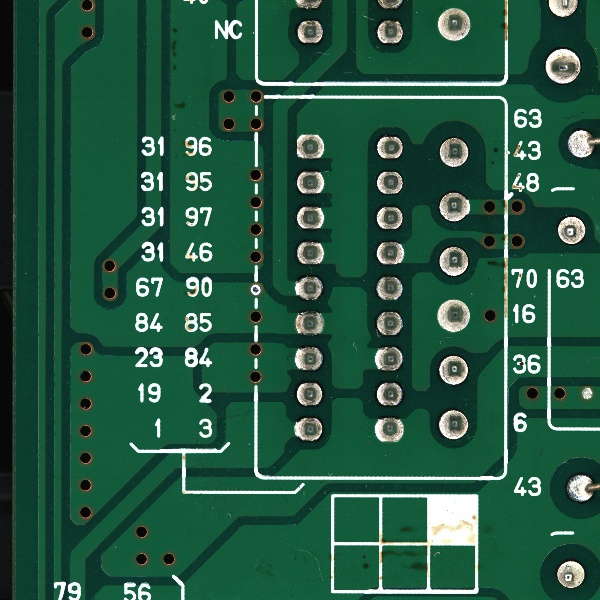Circle: (432, 2, 476, 47), (541, 45, 585, 88), (435, 185, 474, 228), (435, 132, 474, 171), (434, 296, 474, 334), (434, 240, 471, 279), (435, 405, 474, 442), (435, 351, 473, 388), (290, 130, 331, 163), (562, 125, 597, 162), (553, 212, 587, 250), (371, 413, 409, 446), (371, 307, 408, 339), (371, 343, 408, 375), (375, 15, 408, 48), (563, 472, 597, 504), (554, 556, 586, 590), (292, 201, 326, 233), (372, 238, 408, 268), (293, 272, 324, 306), (292, 378, 327, 408), (374, 272, 408, 302), (291, 415, 325, 445), (293, 168, 329, 196), (374, 379, 406, 410), (291, 343, 324, 373), (372, 168, 408, 195), (374, 203, 406, 232), (293, 308, 325, 337), (294, 239, 327, 267), (371, 134, 406, 160), (294, 18, 325, 47)
